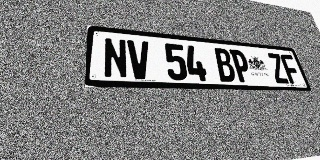4: (183, 45, 208, 81)
5: (164, 43, 189, 81)
B: (213, 48, 237, 82)
F: (279, 54, 303, 84)
N: (103, 37, 128, 79)
P: (229, 49, 253, 83)
V: (127, 40, 152, 79)
Z: (266, 53, 290, 84)
